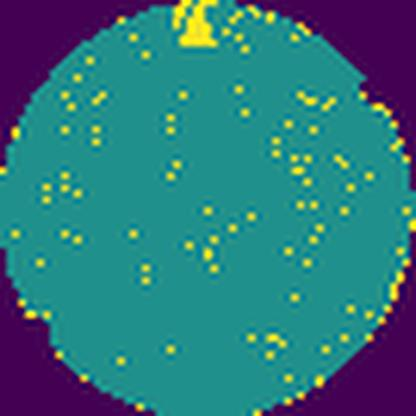Loc: (174, 1, 224, 50)
